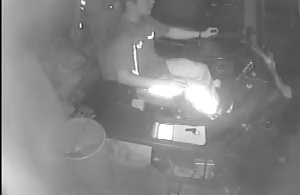paper: (153, 119, 209, 148)
